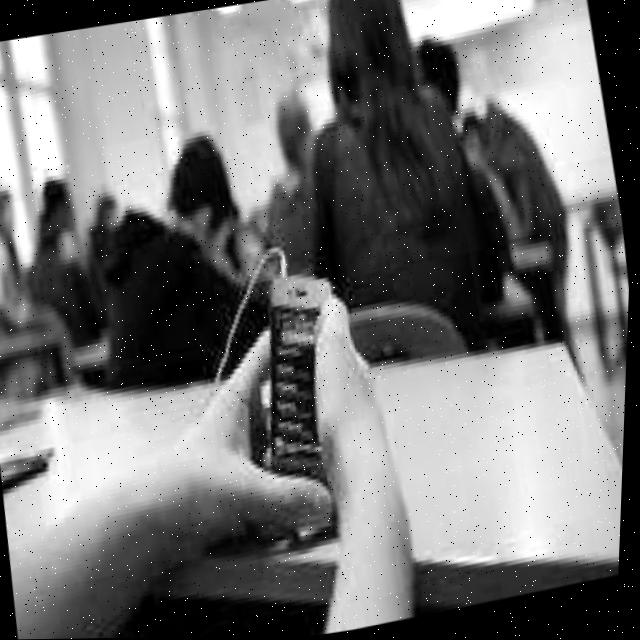phone: (232, 262, 383, 549)
